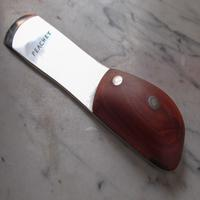knife: (6, 7, 190, 171)
